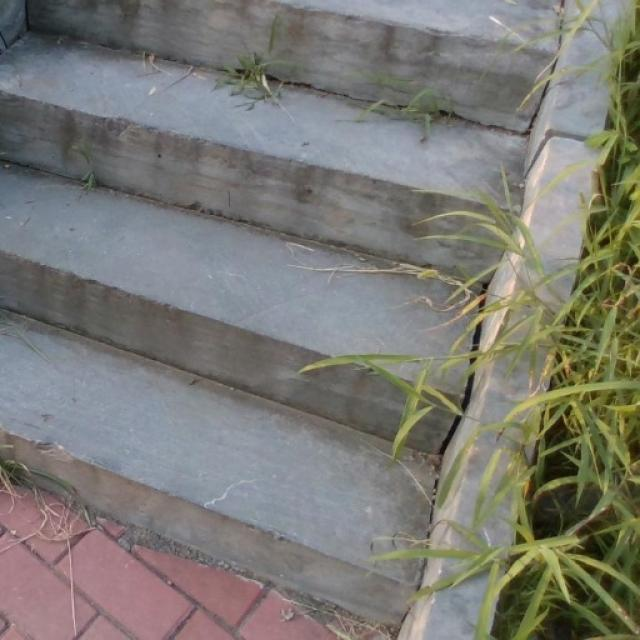Stairs: (0, 0, 618, 635)
